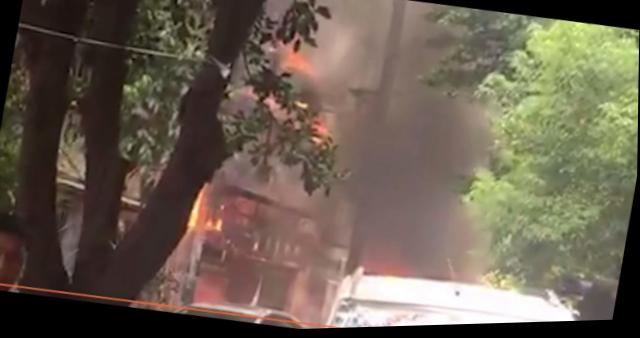fire: (183, 183, 208, 229), (202, 213, 225, 233)
